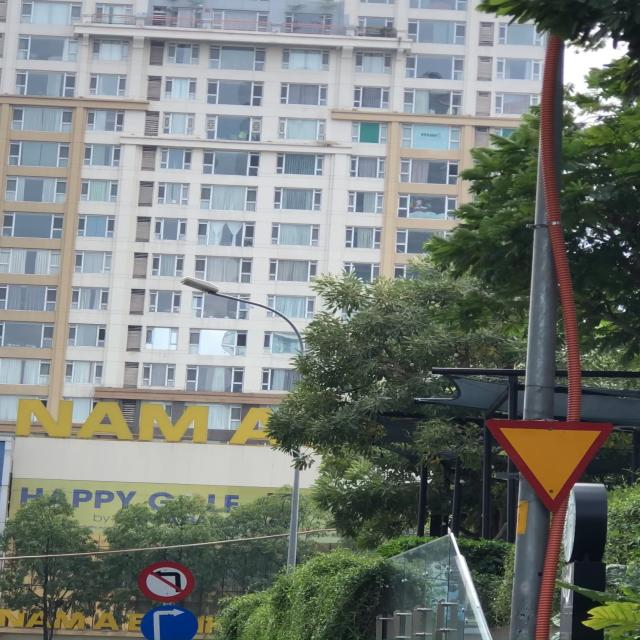Bien bao cam re trai: (138, 559, 195, 603)
Bien bao giao nhau voi duong uu tien: (482, 412, 624, 516)
Bien bao huong di phai theo: (139, 605, 202, 640)
